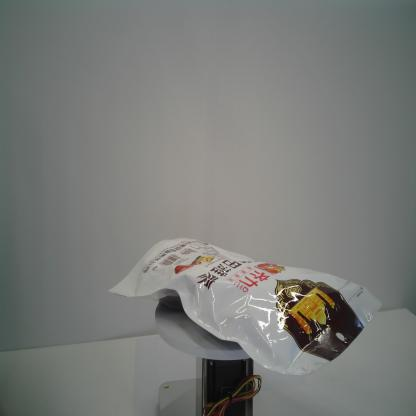Dried Food: (105, 234, 387, 379)
